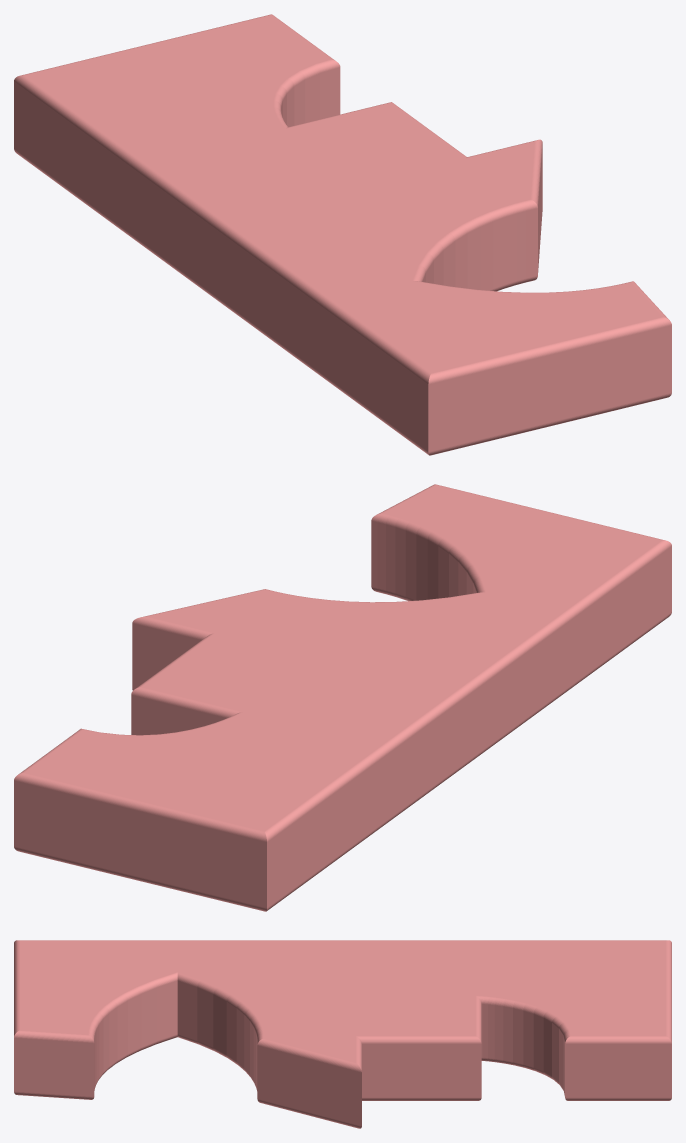
The model's file is 2_door__skin.obj.
3 views of the same model, one above another, from view 1: azimuth 30°, elevation 25°; view 2: azimuth 150°, elevation 25°; view 3: azimuth 270°, elevation 25° (orthographic). The views are drawn at different scales.
Parts seen in each view (by area): view 1: 2_door__skin; view 2: 2_door__skin; view 3: 2_door__skin.
Boxes of the visible parts, bbox=[...] form: 2_door__skin: bbox=[14, 14, 671, 455]; 2_door__skin: bbox=[14, 484, 671, 911]; 2_door__skin: bbox=[14, 940, 671, 1128].
Size of the model in its own units: 0.0311 by 0.00721 by 0.0669.
